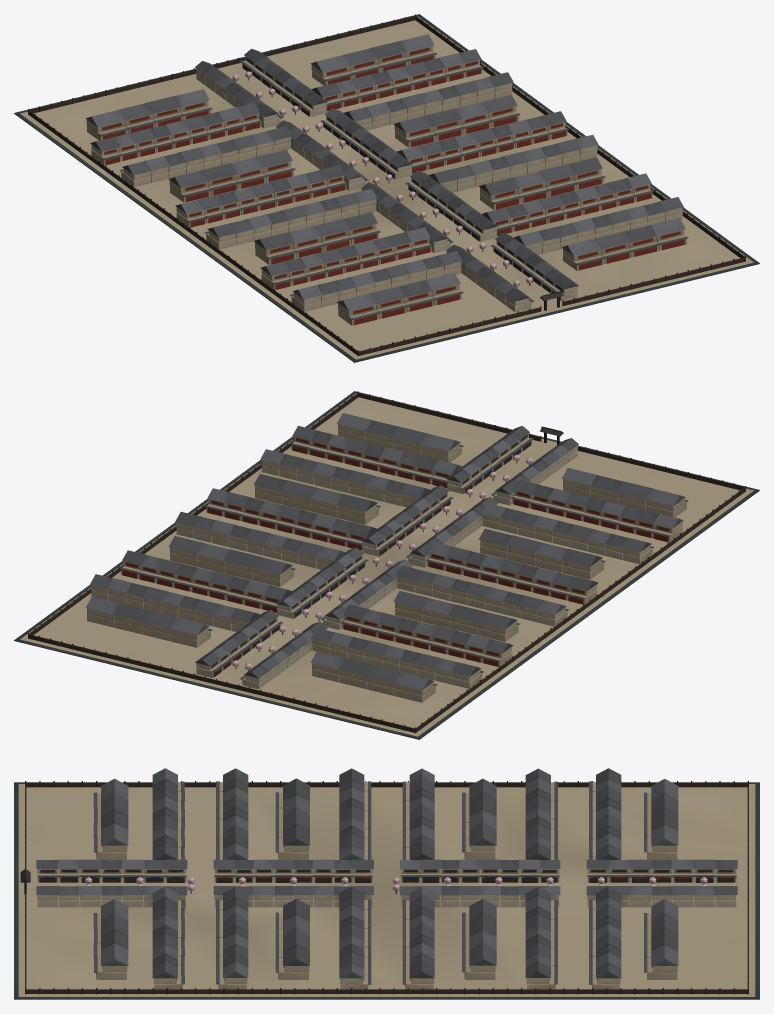
The model's file is yoshiwara.glb.
3 views of the same model, one above another, from view 1: azimuth 30°, elevation 25°; view 2: azimuth 150°, elevation 25°; view 3: azimuth 270°, elevation 25° (orthographic). The views are drawn at different scales.
Visible parts, largest first — view 1: p2_houses, p0_ground, p1_fence, p3_cherries; view 2: p2_houses, p0_ground, p1_fence, p3_cherries; view 3: p2_houses, p0_ground, p1_fence, p3_cherries.
Part boxes in pixels (left/top/right/bottom): p2_houses: left=86, top=34, right=688, bottom=325; p0_ground: left=14, top=14, right=759, bottom=362; p1_fence: left=28, top=14, right=745, bottom=355; p3_cherries: left=232, top=71, right=532, bottom=287; p2_houses: left=85, top=413, right=688, bottom=702; p0_ground: left=14, top=391, right=759, bottom=739; p1_fence: left=28, top=391, right=745, bottom=733; p3_cherries: left=232, top=454, right=532, bottom=671; p2_houses: left=36, top=768, right=737, bottom=989; p0_ground: left=14, top=782, right=759, bottom=999; p1_fence: left=20, top=781, right=748, bottom=994; p3_cherries: left=85, top=877, right=707, bottom=893.
Bounding box in the file's own units: 220 × 10.91 × 320.
